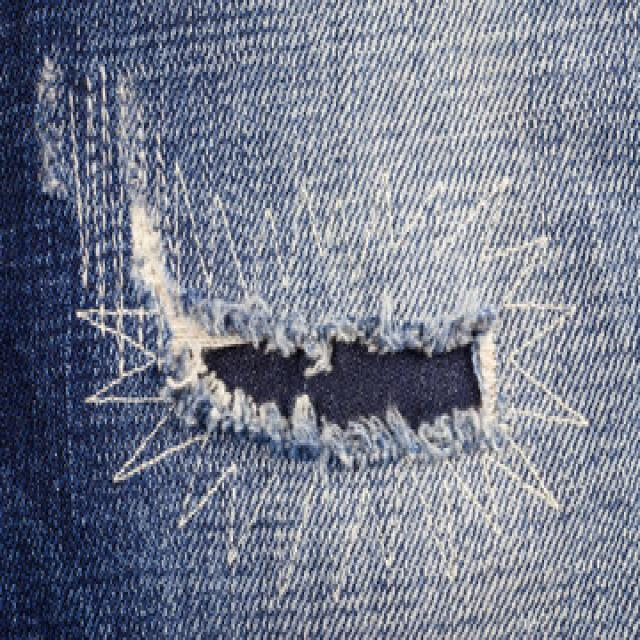Hole: (129, 193, 497, 468)
